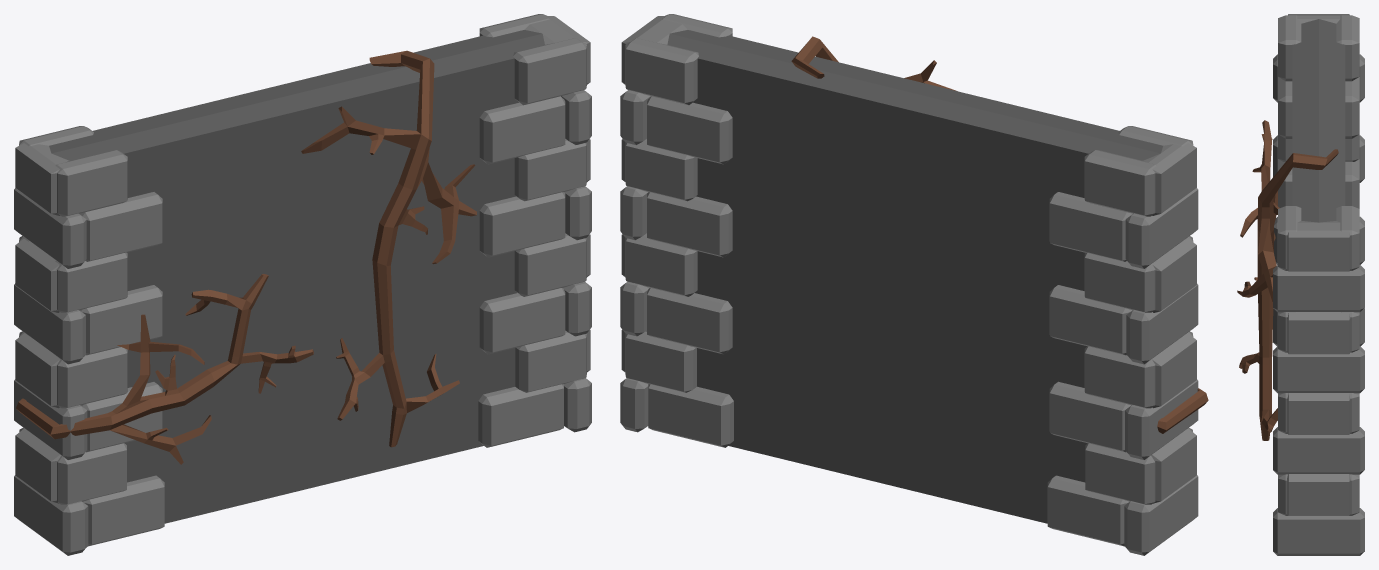
Rendered from DungeonWallOvergrown.fbx.
The picture shows the model from 3 angles, left to right: view 1: azimuth 30°, elevation 25°; view 2: azimuth 150°, elevation 25°; view 3: azimuth 270°, elevation 25°; orthographic projection. The views are drawn at different scales.
Visible parts, largest first — view 1: DungeonWallOvergrown; view 2: DungeonWallOvergrown; view 3: DungeonWallOvergrown.
Part boxes in pixels (x1,y1,x2,y2): DungeonWallOvergrown: [14, 14, 591, 555]; DungeonWallOvergrown: [620, 14, 1208, 555]; DungeonWallOvergrown: [1237, 14, 1364, 555].
Bounding box in the file's own units: 526 × 369 × 126.
Materials: 1 (1 with a texture image).
